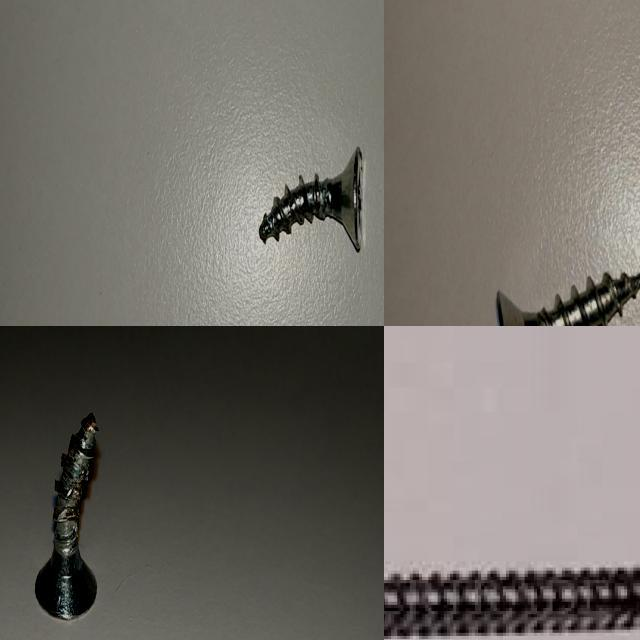Screw: (384, 568, 640, 640), (35, 411, 98, 618), (259, 147, 364, 251), (495, 272, 640, 326)
